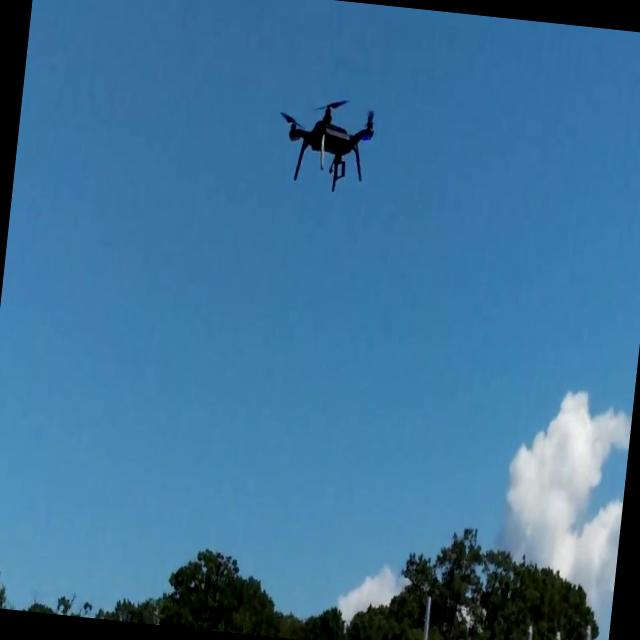drone: (273, 91, 378, 198)
